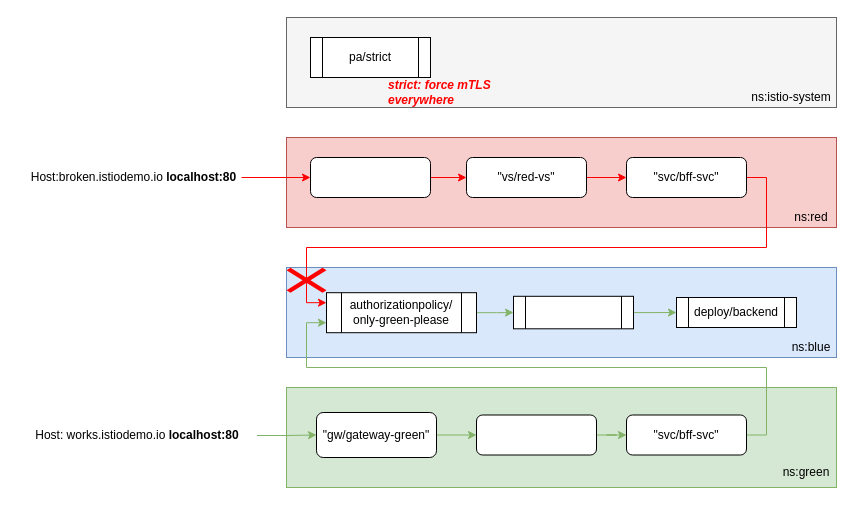
The diagram is 854 pixels wide and 505 high, and some of its shapes have lost their labels. Here are the shapes that lost their labels. From the top down, the centre of each, then its label:
[370,177]: "gw/gateway-red"
[573,312]: svc/backend-svc
[536,434]: "vs/green-vs"
